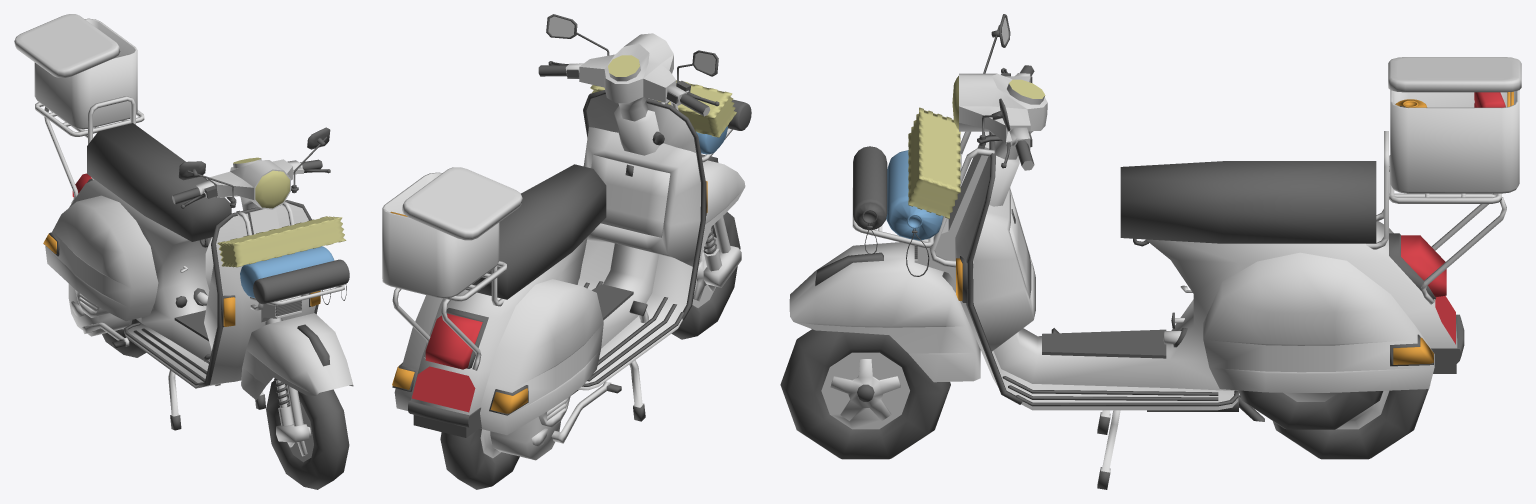
File: vsp200マテリアル分割.fbx
The picture shows the model from 3 angles, left to right: view 1: azimuth 30°, elevation 25°; view 2: azimuth 150°, elevation 25°; view 3: azimuth 270°, elevation 25°; orthographic projection. The views are drawn at different scales.
Visible parts, largest first — view 1: vsp, vspnimotu; view 2: vsp, vspnimotu; view 3: vsp, vspnimotu.
Part boxes in pixels (x1,y1,x2,y2): vsp: [43, 123, 353, 489]; vspnimotu: [14, 14, 349, 310]; vsp: [392, 14, 745, 489]; vspnimotu: [382, 80, 751, 370]; vsp: [780, 14, 1464, 489]; vspnimotu: [852, 57, 1521, 304].
Size of the model in its own units: 56.11 by 108 by 181.
